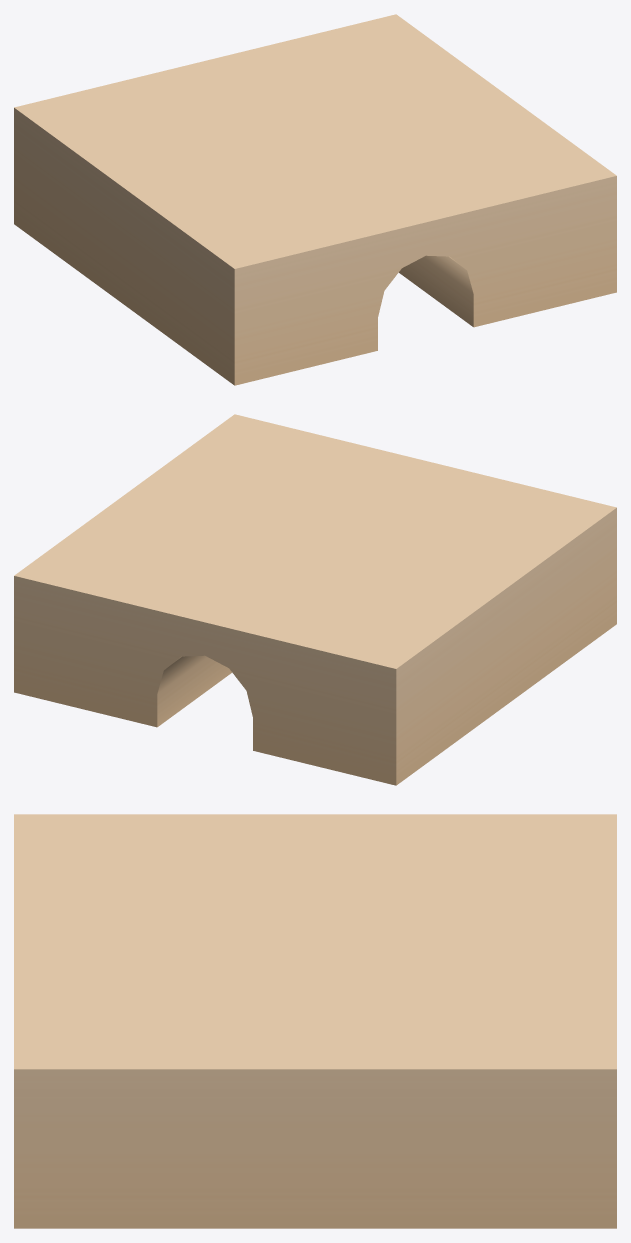
File: structure-gate.glb
3 views of the same model, one above another, from view 1: azimuth 30°, elevation 25°; view 2: azimuth 150°, elevation 25°; view 3: azimuth 270°, elevation 25° (orthographic). The views are drawn at different scales.
Visible parts, largest first — view 1: structure-gate; view 2: structure-gate; view 3: structure-gate.
Boxes of the visible parts, left/top/right/bottom form: structure-gate: left=14, top=14, right=616, bottom=385; structure-gate: left=14, top=414, right=616, bottom=785; structure-gate: left=14, top=814, right=616, bottom=1228.
Bounding box in the file's own units: 0.7999 × 0.2333 × 0.7999.
Materials: 1 (1 with a texture image).
